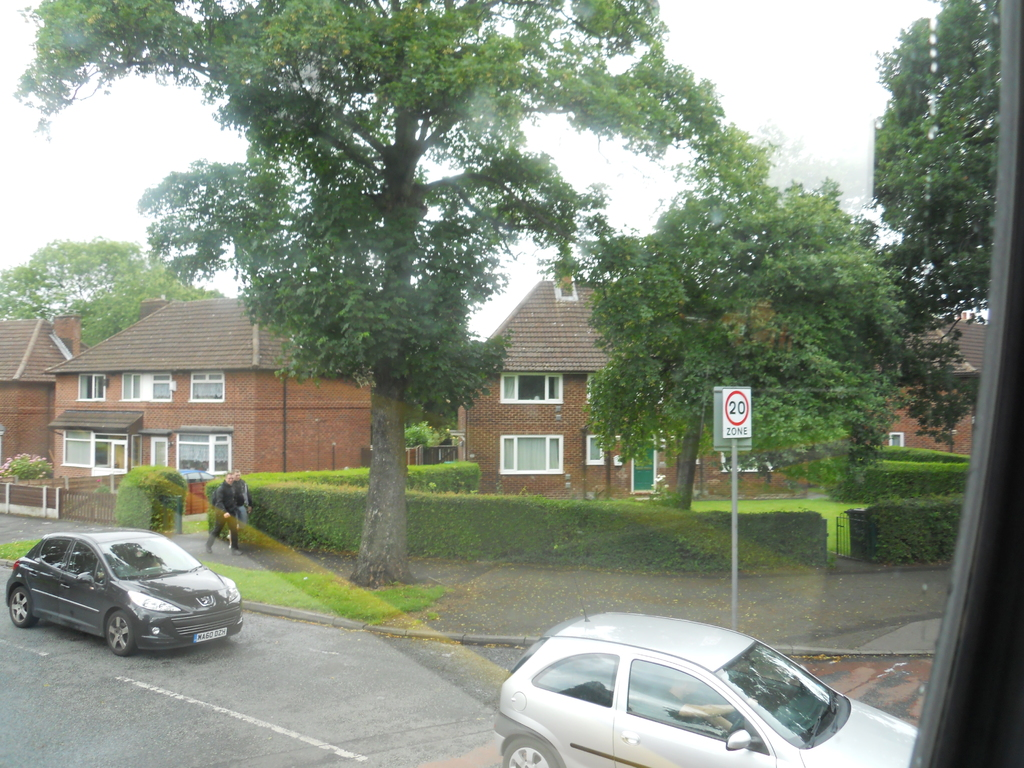mobil: (501, 613, 922, 768), (4, 528, 245, 655)
